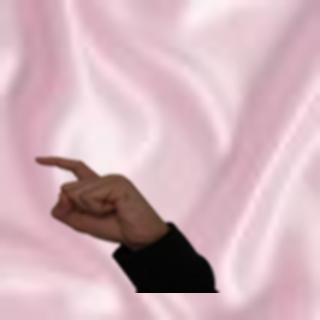WHY: (28, 150, 164, 244)
